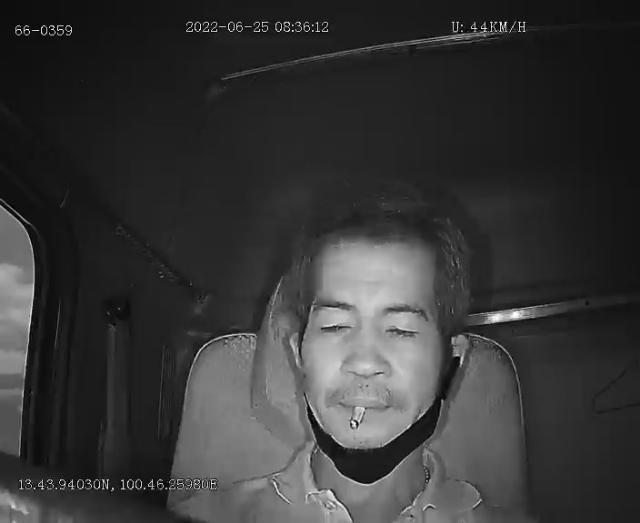SafeDriving: (310, 307, 360, 340), (378, 312, 426, 342)
Smoking: (347, 406, 367, 430)
